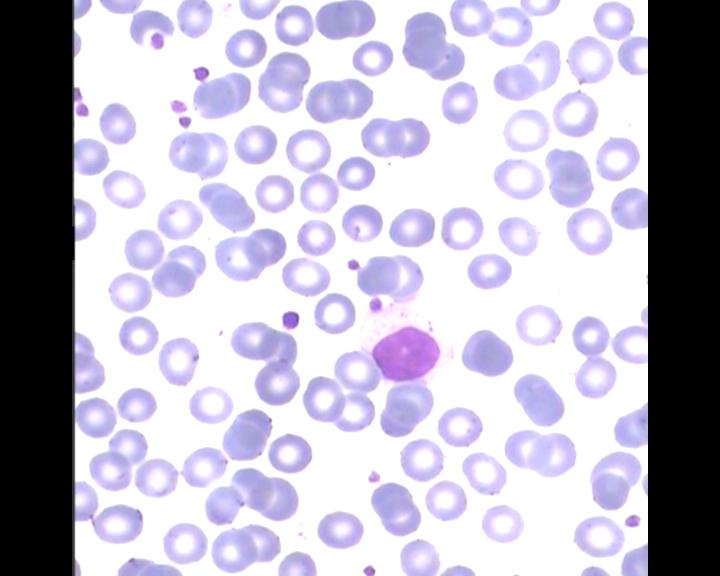mono: (357, 293, 455, 386)
